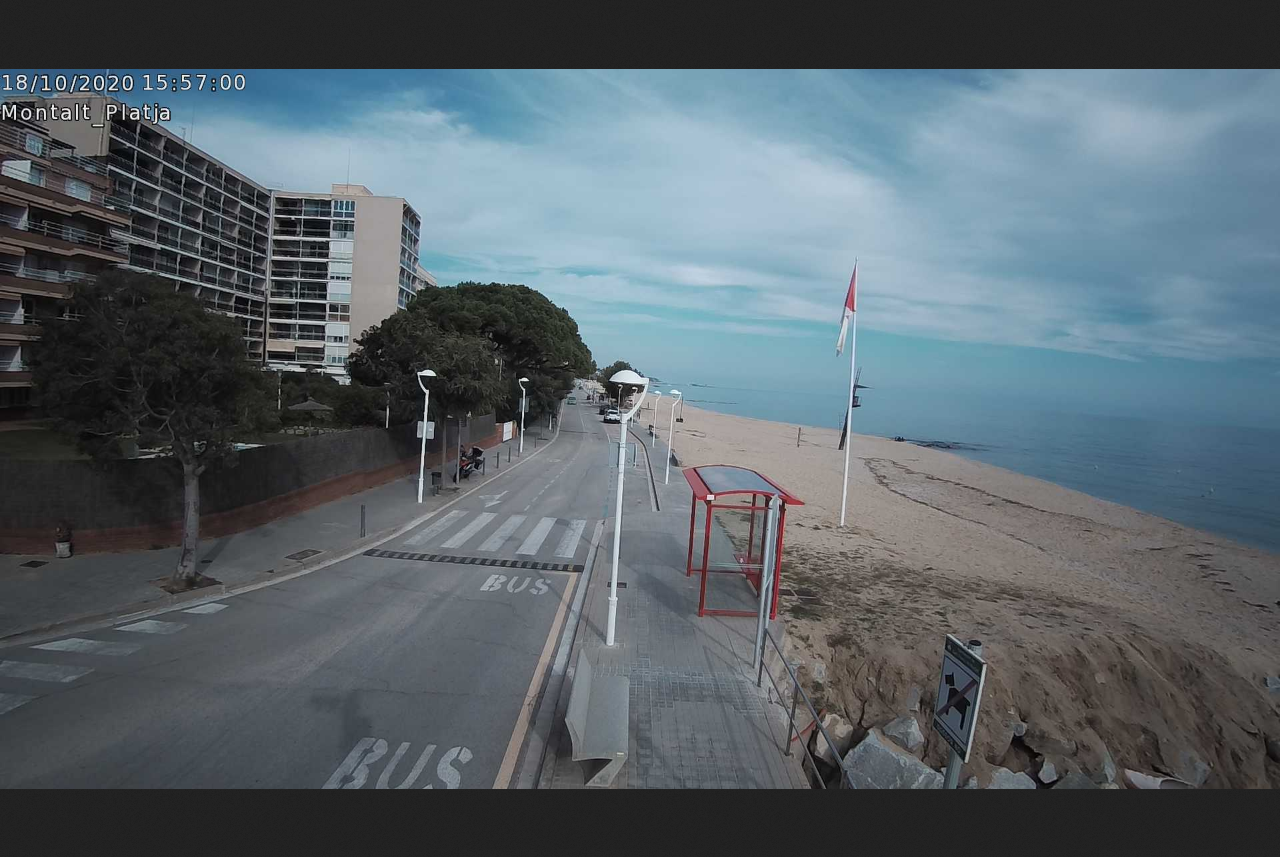no: (829, 258, 858, 358)
